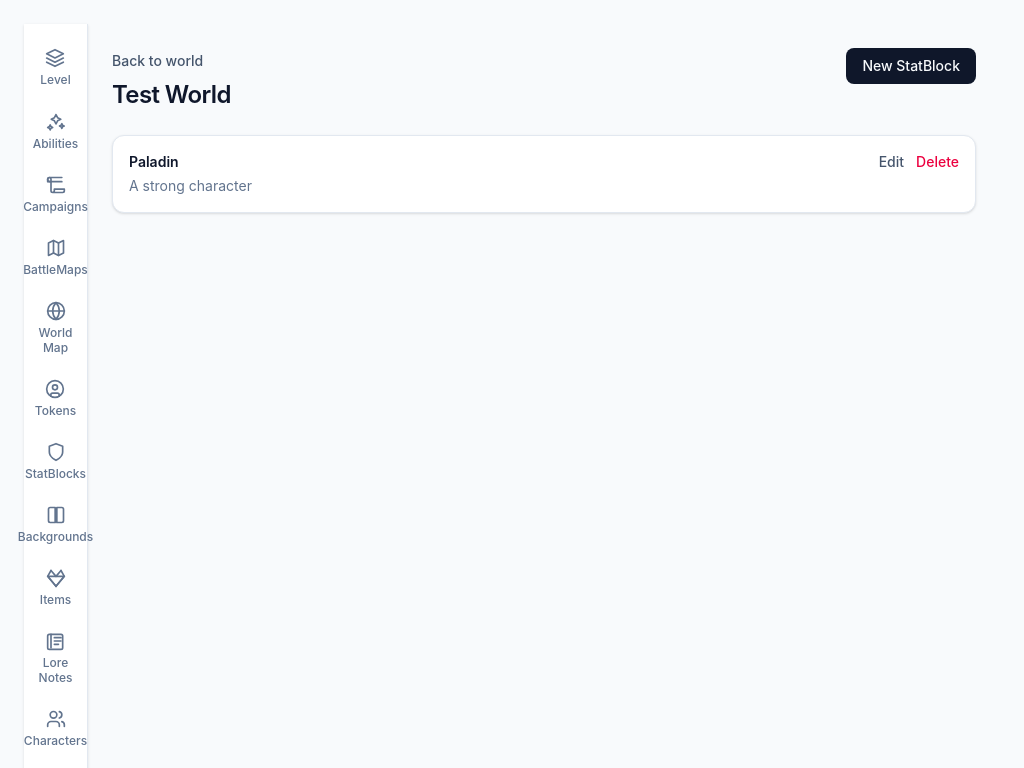
Test: StatBlocksPage › delete statblock › closes confirmation after delete attempt
What coordinates should you click on to do the following:
click the button "Delete"
I would click on:
 (938, 162)
Its box is [916,152,959,172].
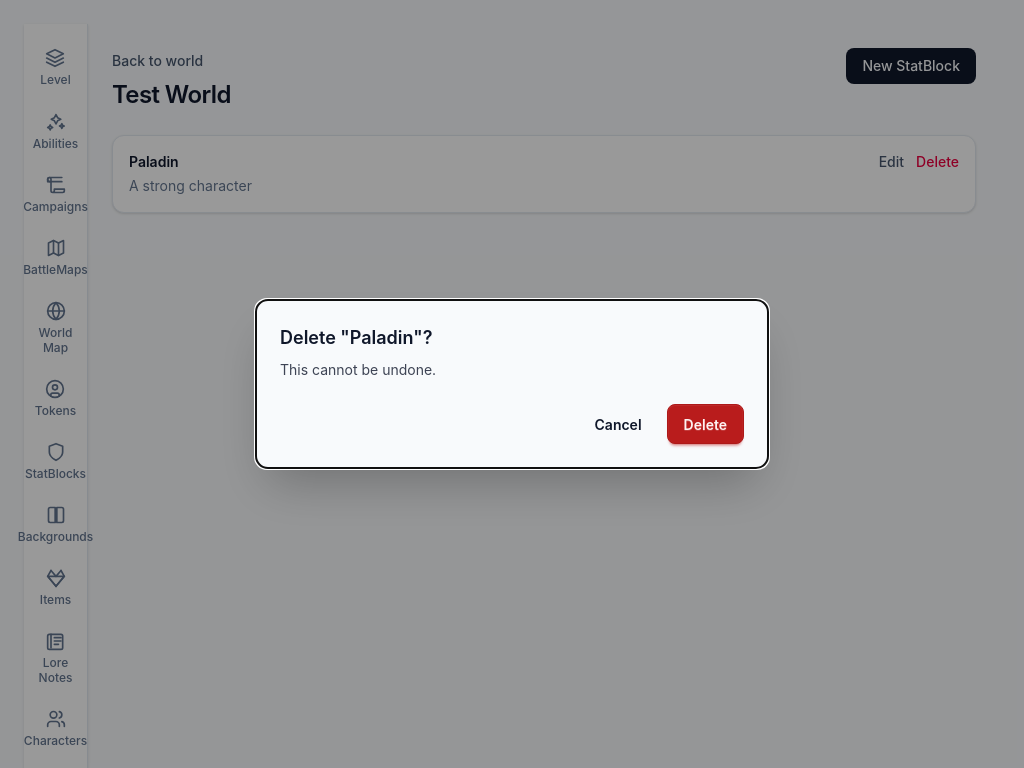
What coordinates should you click on to do the following:
click the button "Delete"
I would click on:
 (705, 424)
Its box is [667,404,744,444].
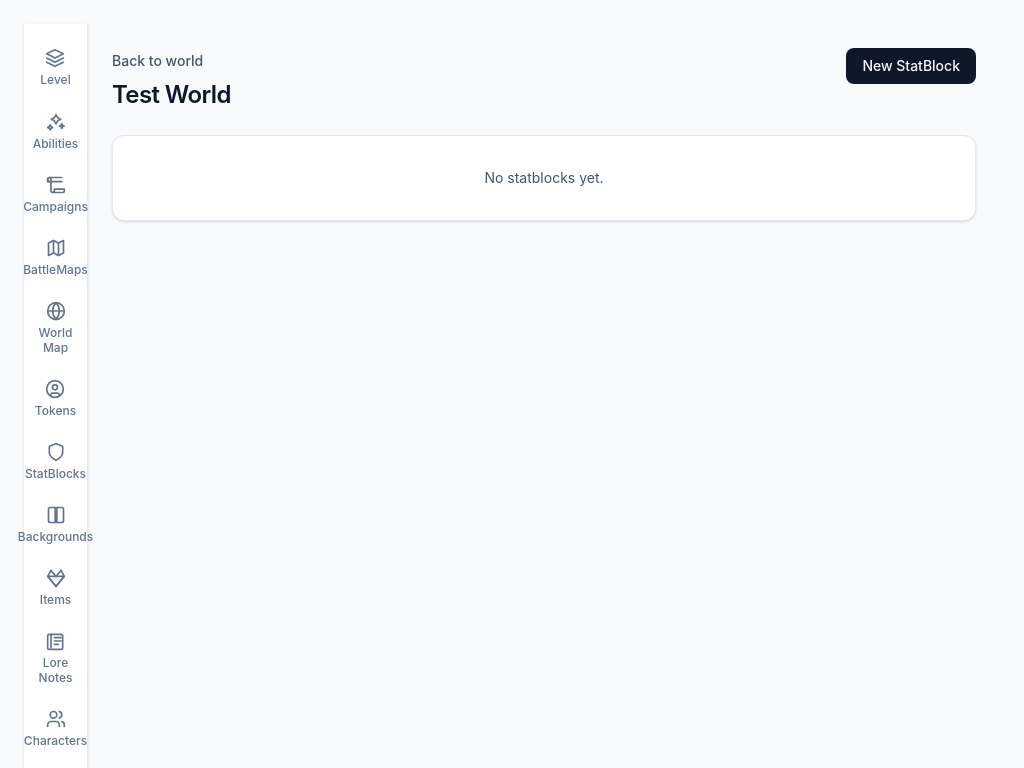
Expected: the heading "Delete \"Paladin\"?" is gone
